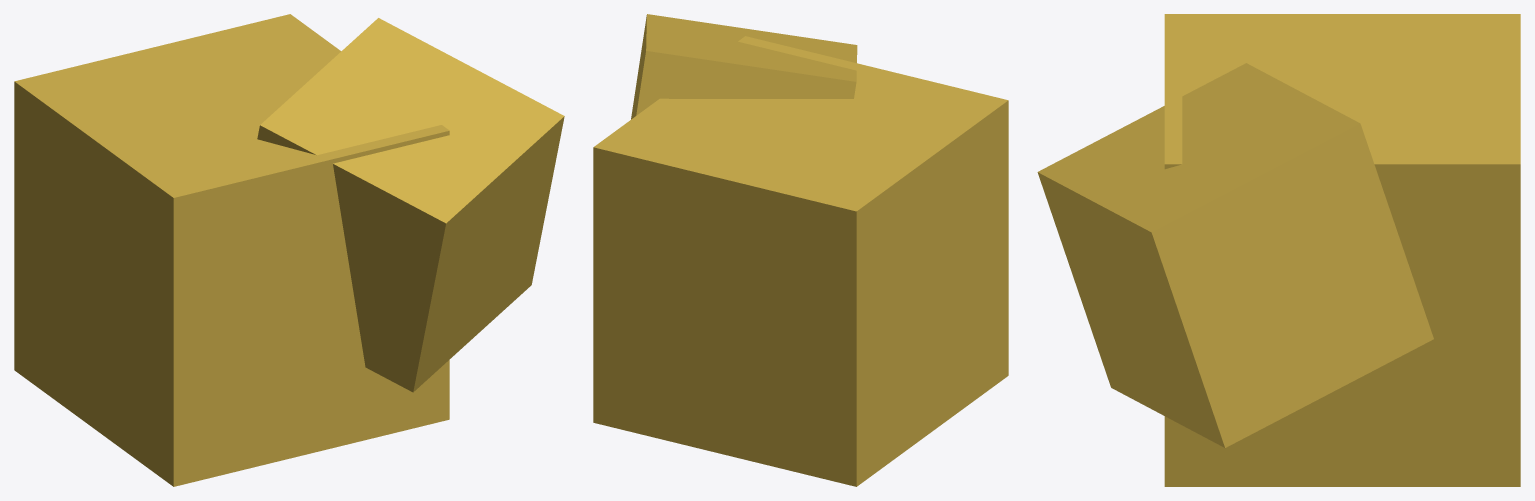
The model's file is pyrite.glb.
The picture shows the model from 3 angles, left to right: view 1: azimuth 30°, elevation 25°; view 2: azimuth 150°, elevation 25°; view 3: azimuth 270°, elevation 25°; orthographic projection. The views are drawn at different scales.
Visible parts, largest first — view 1: pyrite; view 2: pyrite; view 3: pyrite.
Boxes of the visible parts, box(x1,y1,x2,y2) form: pyrite: box(14, 14, 564, 486); pyrite: box(593, 14, 1008, 486); pyrite: box(1037, 14, 1520, 486).
Size of the model in its own units: 0.25 by 0.2069 by 0.2432.
